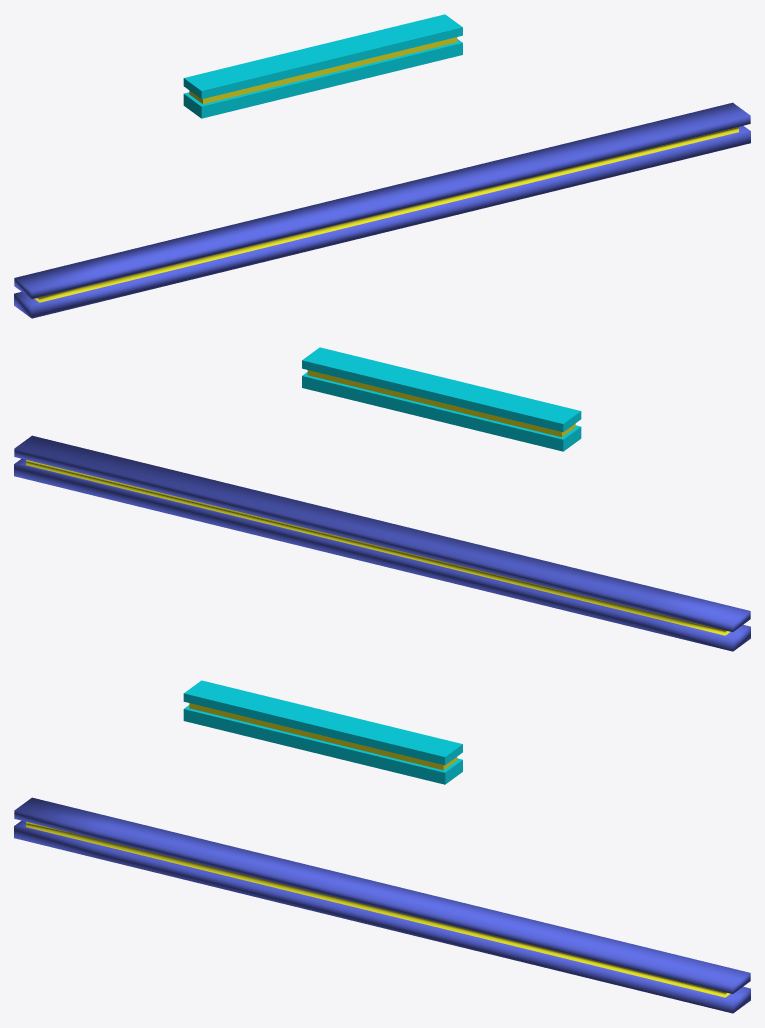
The model's file is barras_interior.fbx.
3 renders of one model, top to bottom at view 1: azimuth 30°, elevation 25°; view 2: azimuth 150°, elevation 25°; view 3: azimuth 330°, elevation 25°, orthographic.
Visible parts, largest first — view 1: Cube, Puerta_Arco.006; view 2: Cube, Puerta_Arco.006; view 3: Cube, Puerta_Arco.006.
Boxes of the visible parts, bbox=[...] form: Cube: bbox=[14, 102, 750, 318]; Puerta_Arco.006: bbox=[183, 14, 462, 118]; Cube: bbox=[14, 435, 750, 651]; Puerta_Arco.006: bbox=[302, 347, 581, 451]; Cube: bbox=[14, 797, 750, 1013]; Puerta_Arco.006: bbox=[183, 680, 462, 784].
Bounding box in the file's own units: 2200 × 544 × 94.81.
